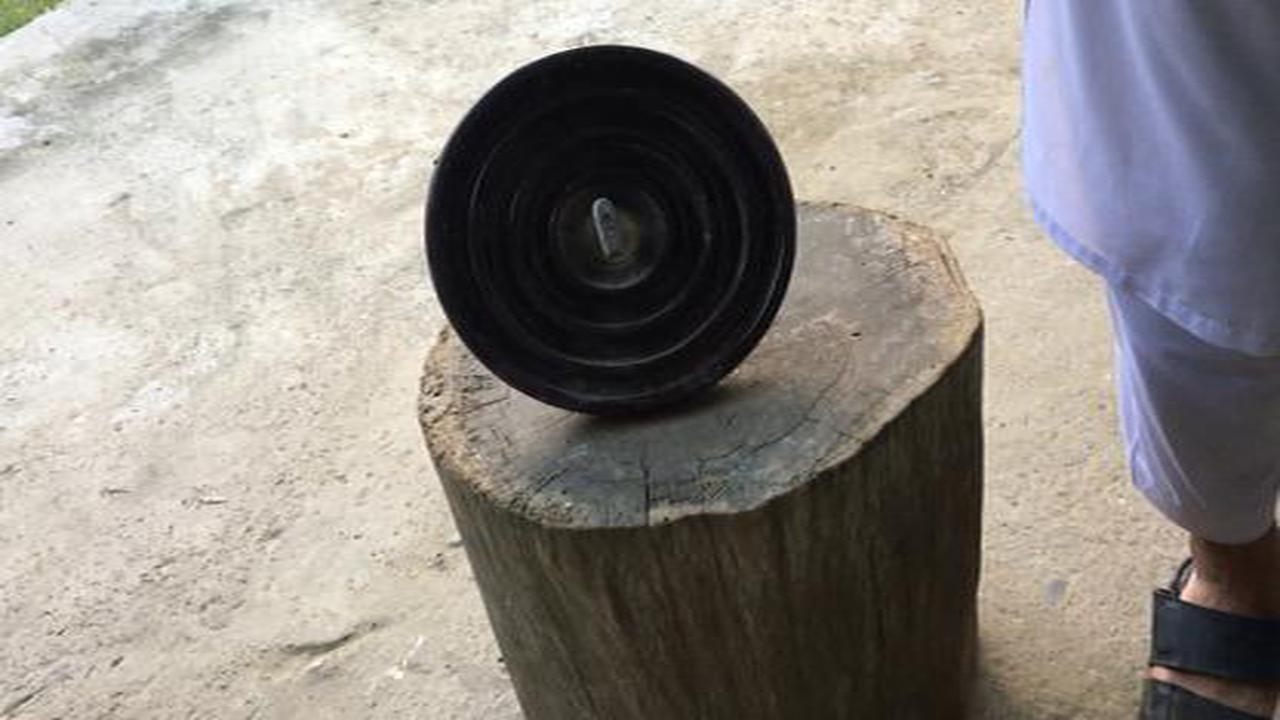insulator_disc: (418, 37, 800, 425)
